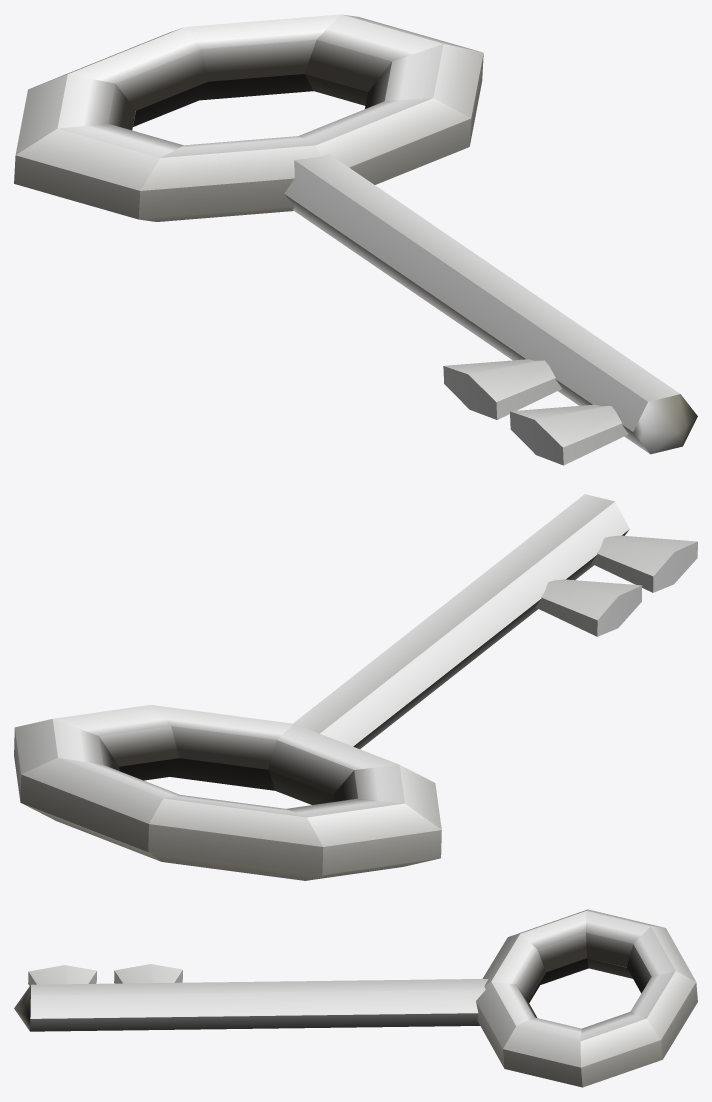
Rendered from llave_contextura.fbx.
3 views of the same model, one above another, from view 1: azimuth 30°, elevation 25°; view 2: azimuth 150°, elevation 25°; view 3: azimuth 270°, elevation 25° (orthographic). The views are drawn at different scales.
Visible parts, largest first — view 1: pTorus1; view 2: pTorus1; view 3: pTorus1.
Boxes of the visible parts, x1,y1,x2,y2 form: pTorus1: (14,14,697,465); pTorus1: (14,494,697,880); pTorus1: (14,909,697,1087).
Size of the model in its own units: 32.2 by 5.57 by 60.48.
